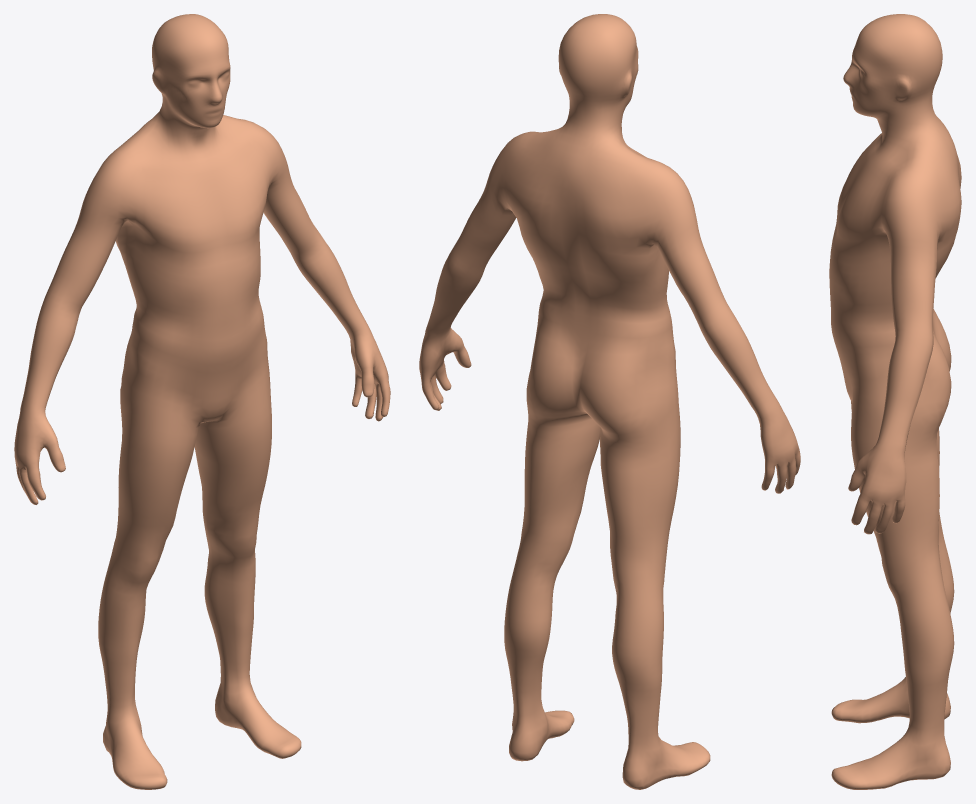
File: scale.obj
3 renders of one model, left to right at view 1: azimuth 30°, elevation 25°; view 2: azimuth 150°, elevation 25°; view 3: azimuth 270°, elevation 25°, orthographic.
Parts seen in each view (by area): view 1: HumanBody:humanBody; view 2: HumanBody:humanBody; view 3: HumanBody:humanBody.
Part boxes in pixels (box(x1,y1,x2,y2)): HumanBody:humanBody: box(14, 14, 390, 789); HumanBody:humanBody: box(419, 14, 800, 789); HumanBody:humanBody: box(829, 14, 961, 789).
Size of the model in its own units: 95.48 by 183 by 29.88.
